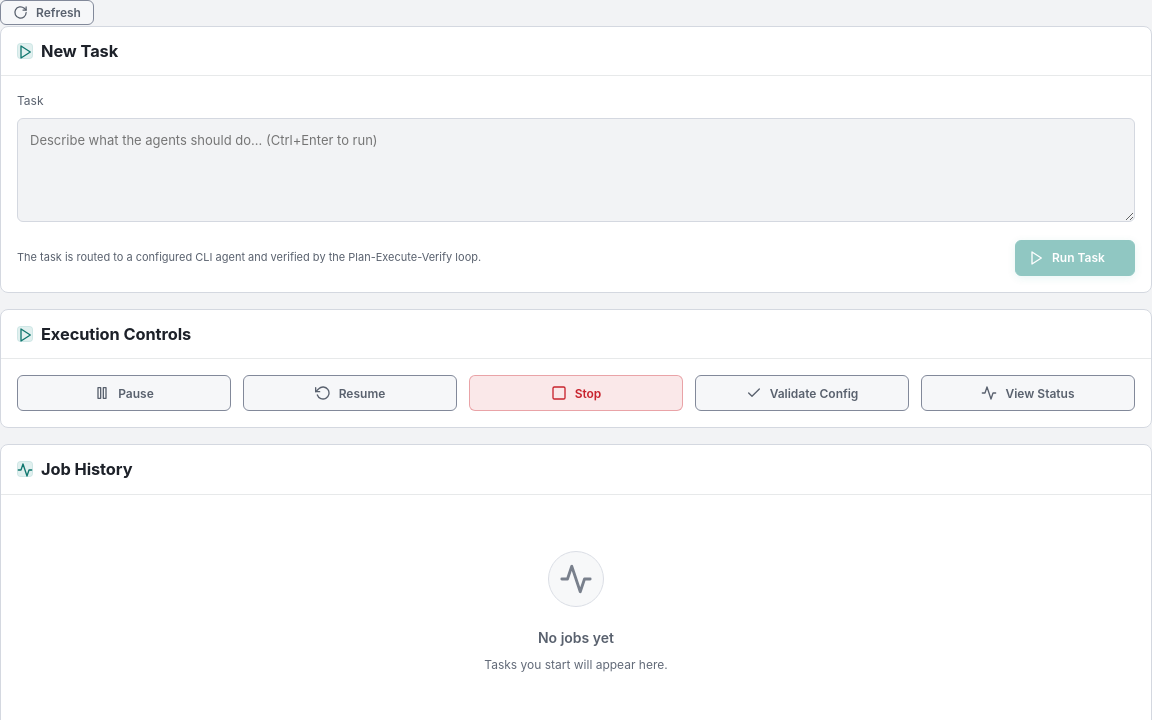
Test case: ControlPanel.vue › submits the composer task (unicode) to /api/control/run
Step 1. Type "重构 auth 模块，改用 JWT。" into the text box with id "maop-task-input" → (576, 170), box [17, 118, 1135, 222]
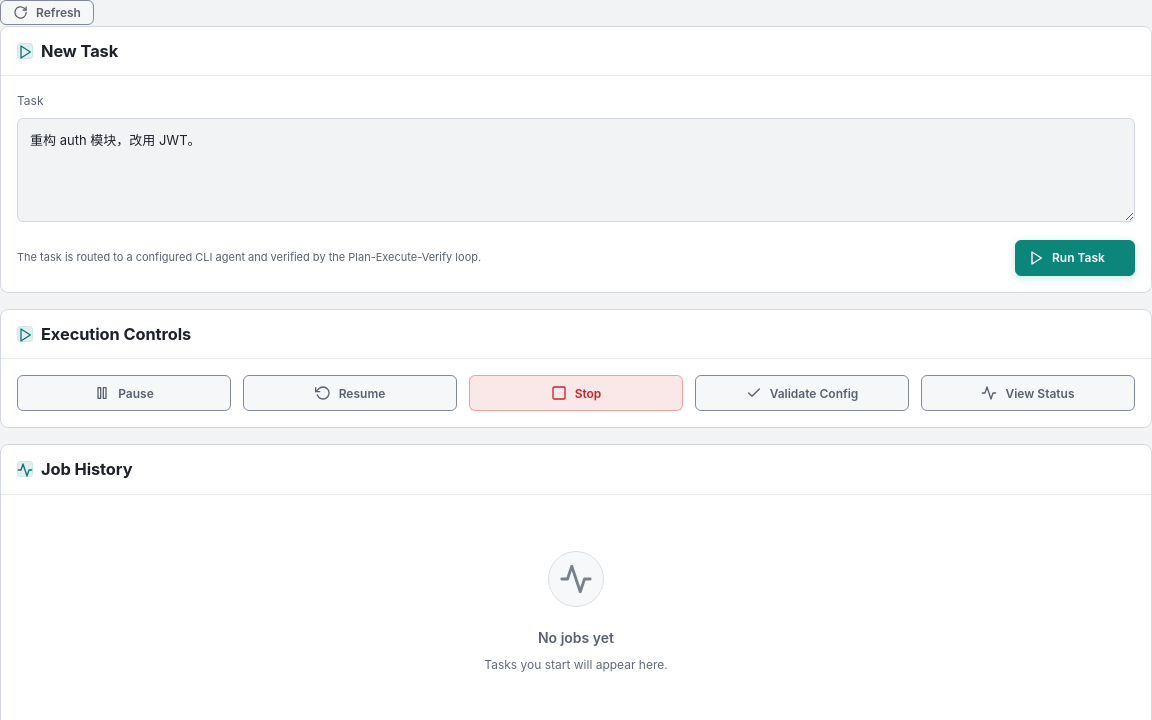
Step 2. Click the button with class "task-composer__run" → click(1075, 258), box [1015, 240, 1135, 276]
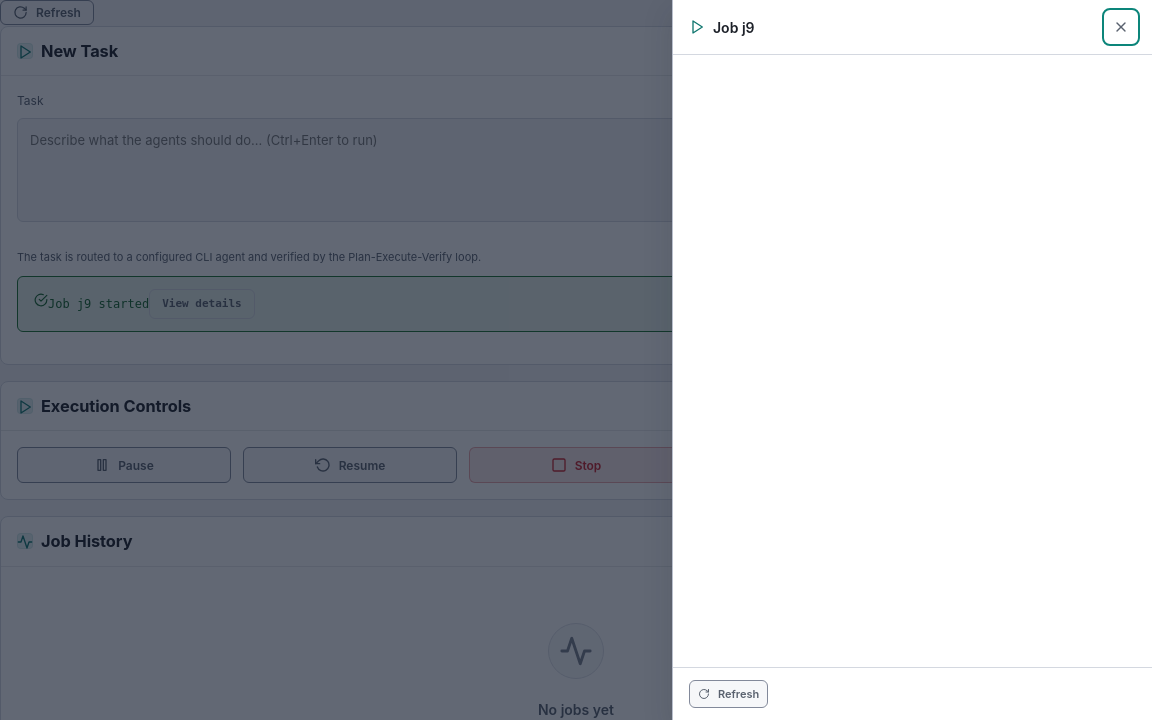
Check: the text "j9" is shown, box [48, 296, 149, 310]
